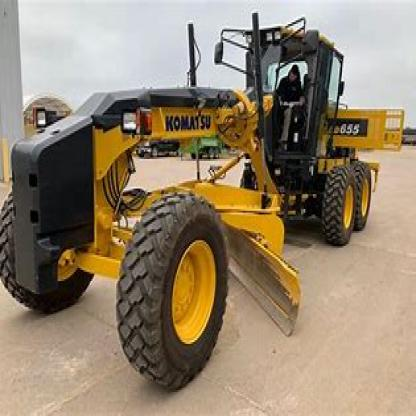bull_dozer/loader/grader: (3, 7, 414, 383)
